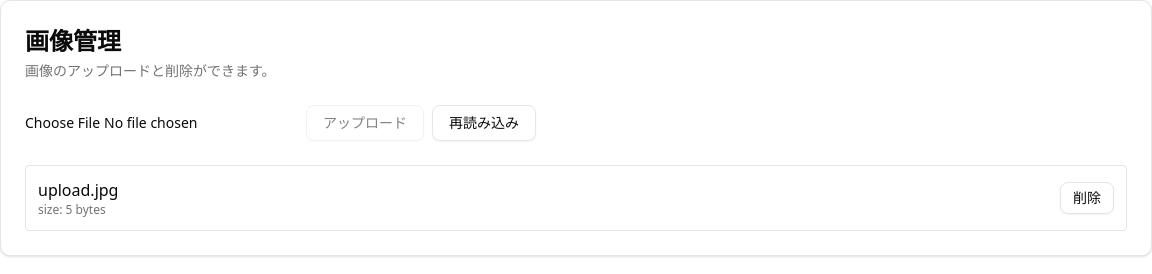
Test: ImagesPage › deletes prod-listed images from the prod bucket and refreshes the list
Click the button "削除" at (1087, 198), box x1=1060 y1=182 x2=1114 y2=214
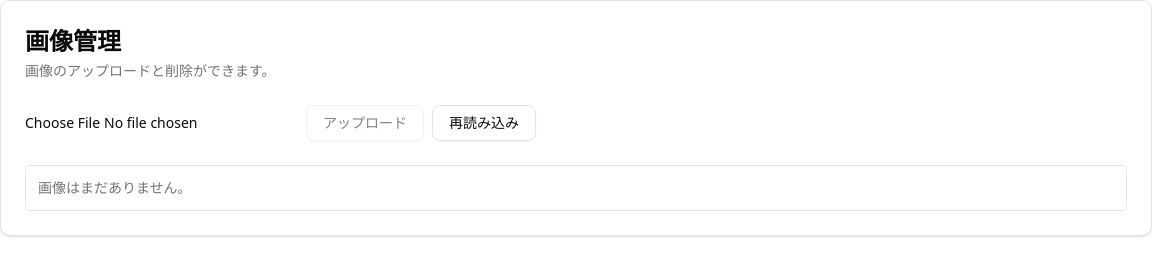
Now the text "画像はまだありません。" is shown, box x1=25 y1=165 x2=1127 y2=211
